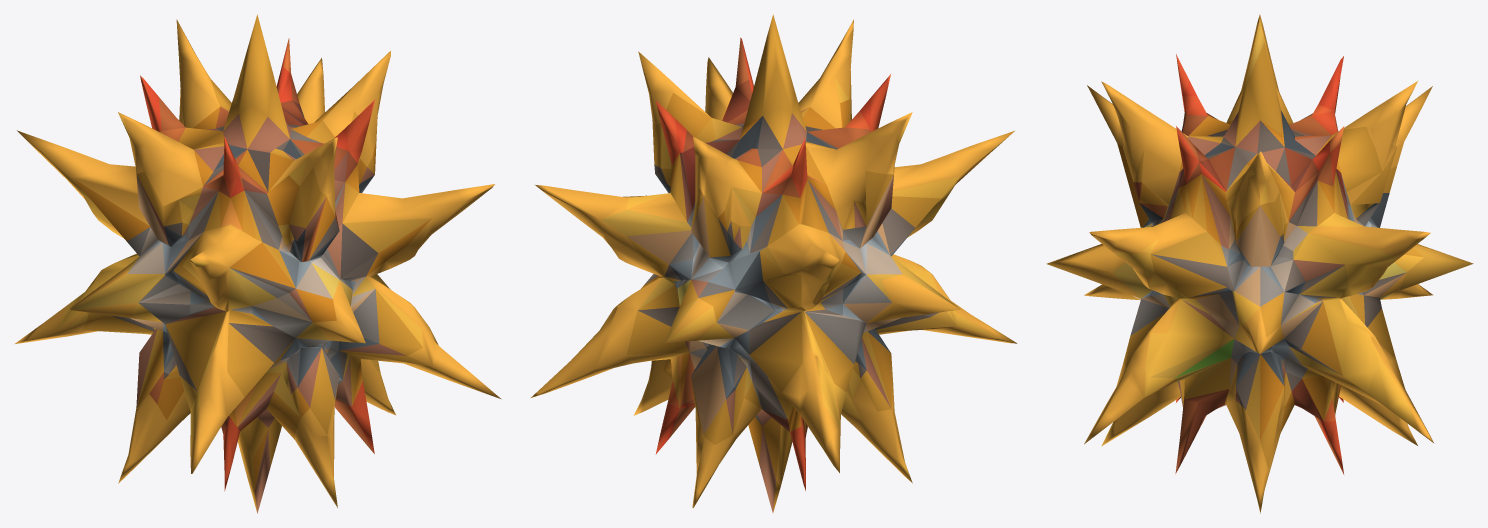
Rendered from fx_detonation_star.glb.
3 views of the same model, side by side, from view 1: azimuth 30°, elevation 25°; view 2: azimuth 150°, elevation 25°; view 3: azimuth 270°, elevation 25° (orthographic).
Parts seen in each view (by area): view 1: Mesh_0; view 2: Mesh_0; view 3: Mesh_0.
Boxes of the visible parts, <box> form: Mesh_0: <box>14,14,501,513</box>; Mesh_0: <box>531,14,1017,512</box>; Mesh_0: <box>1046,14,1473,513</box>.
Size of the model in its own units: 0.2748 by 0.35 by 0.2758.
Materials: 1 (1 with a texture image).
